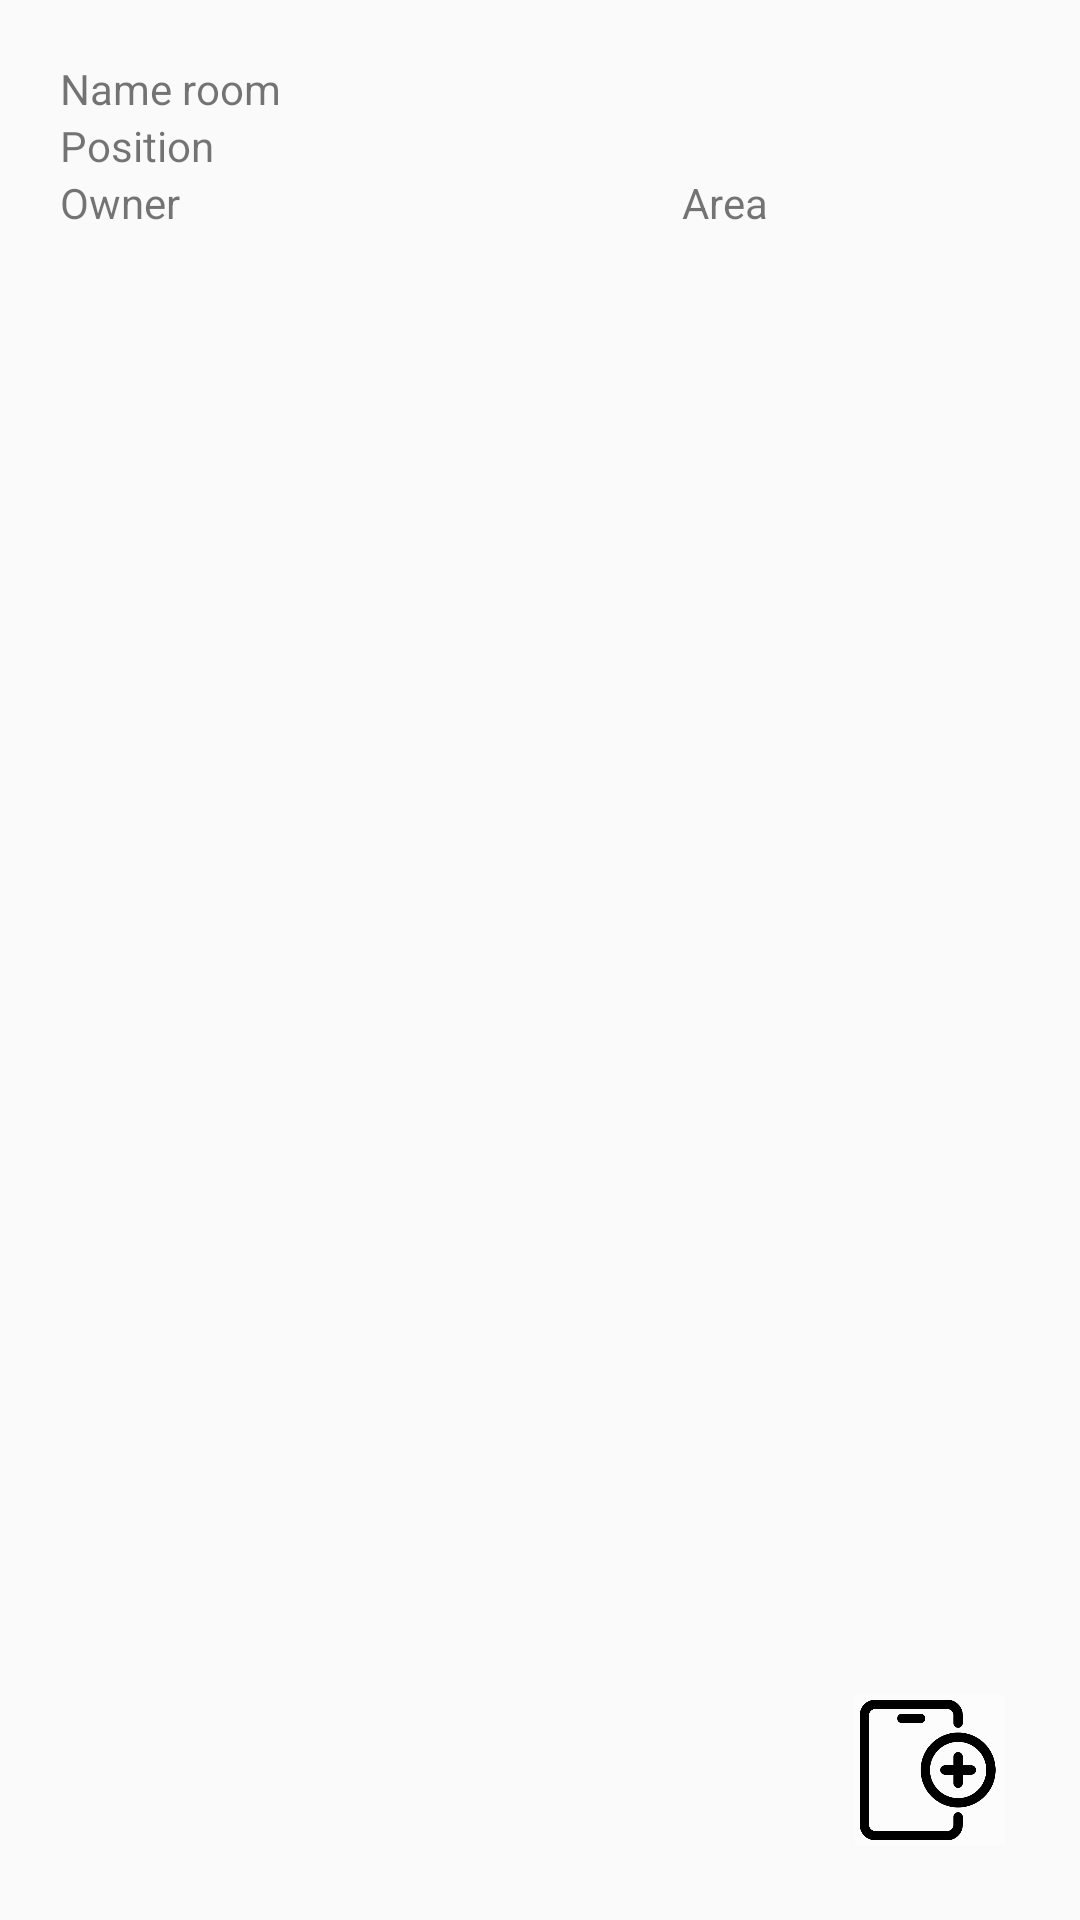

Named icons in this screenshot (1080 x 1920) and their centers, point (x, y):
add device: point (928, 1770)
